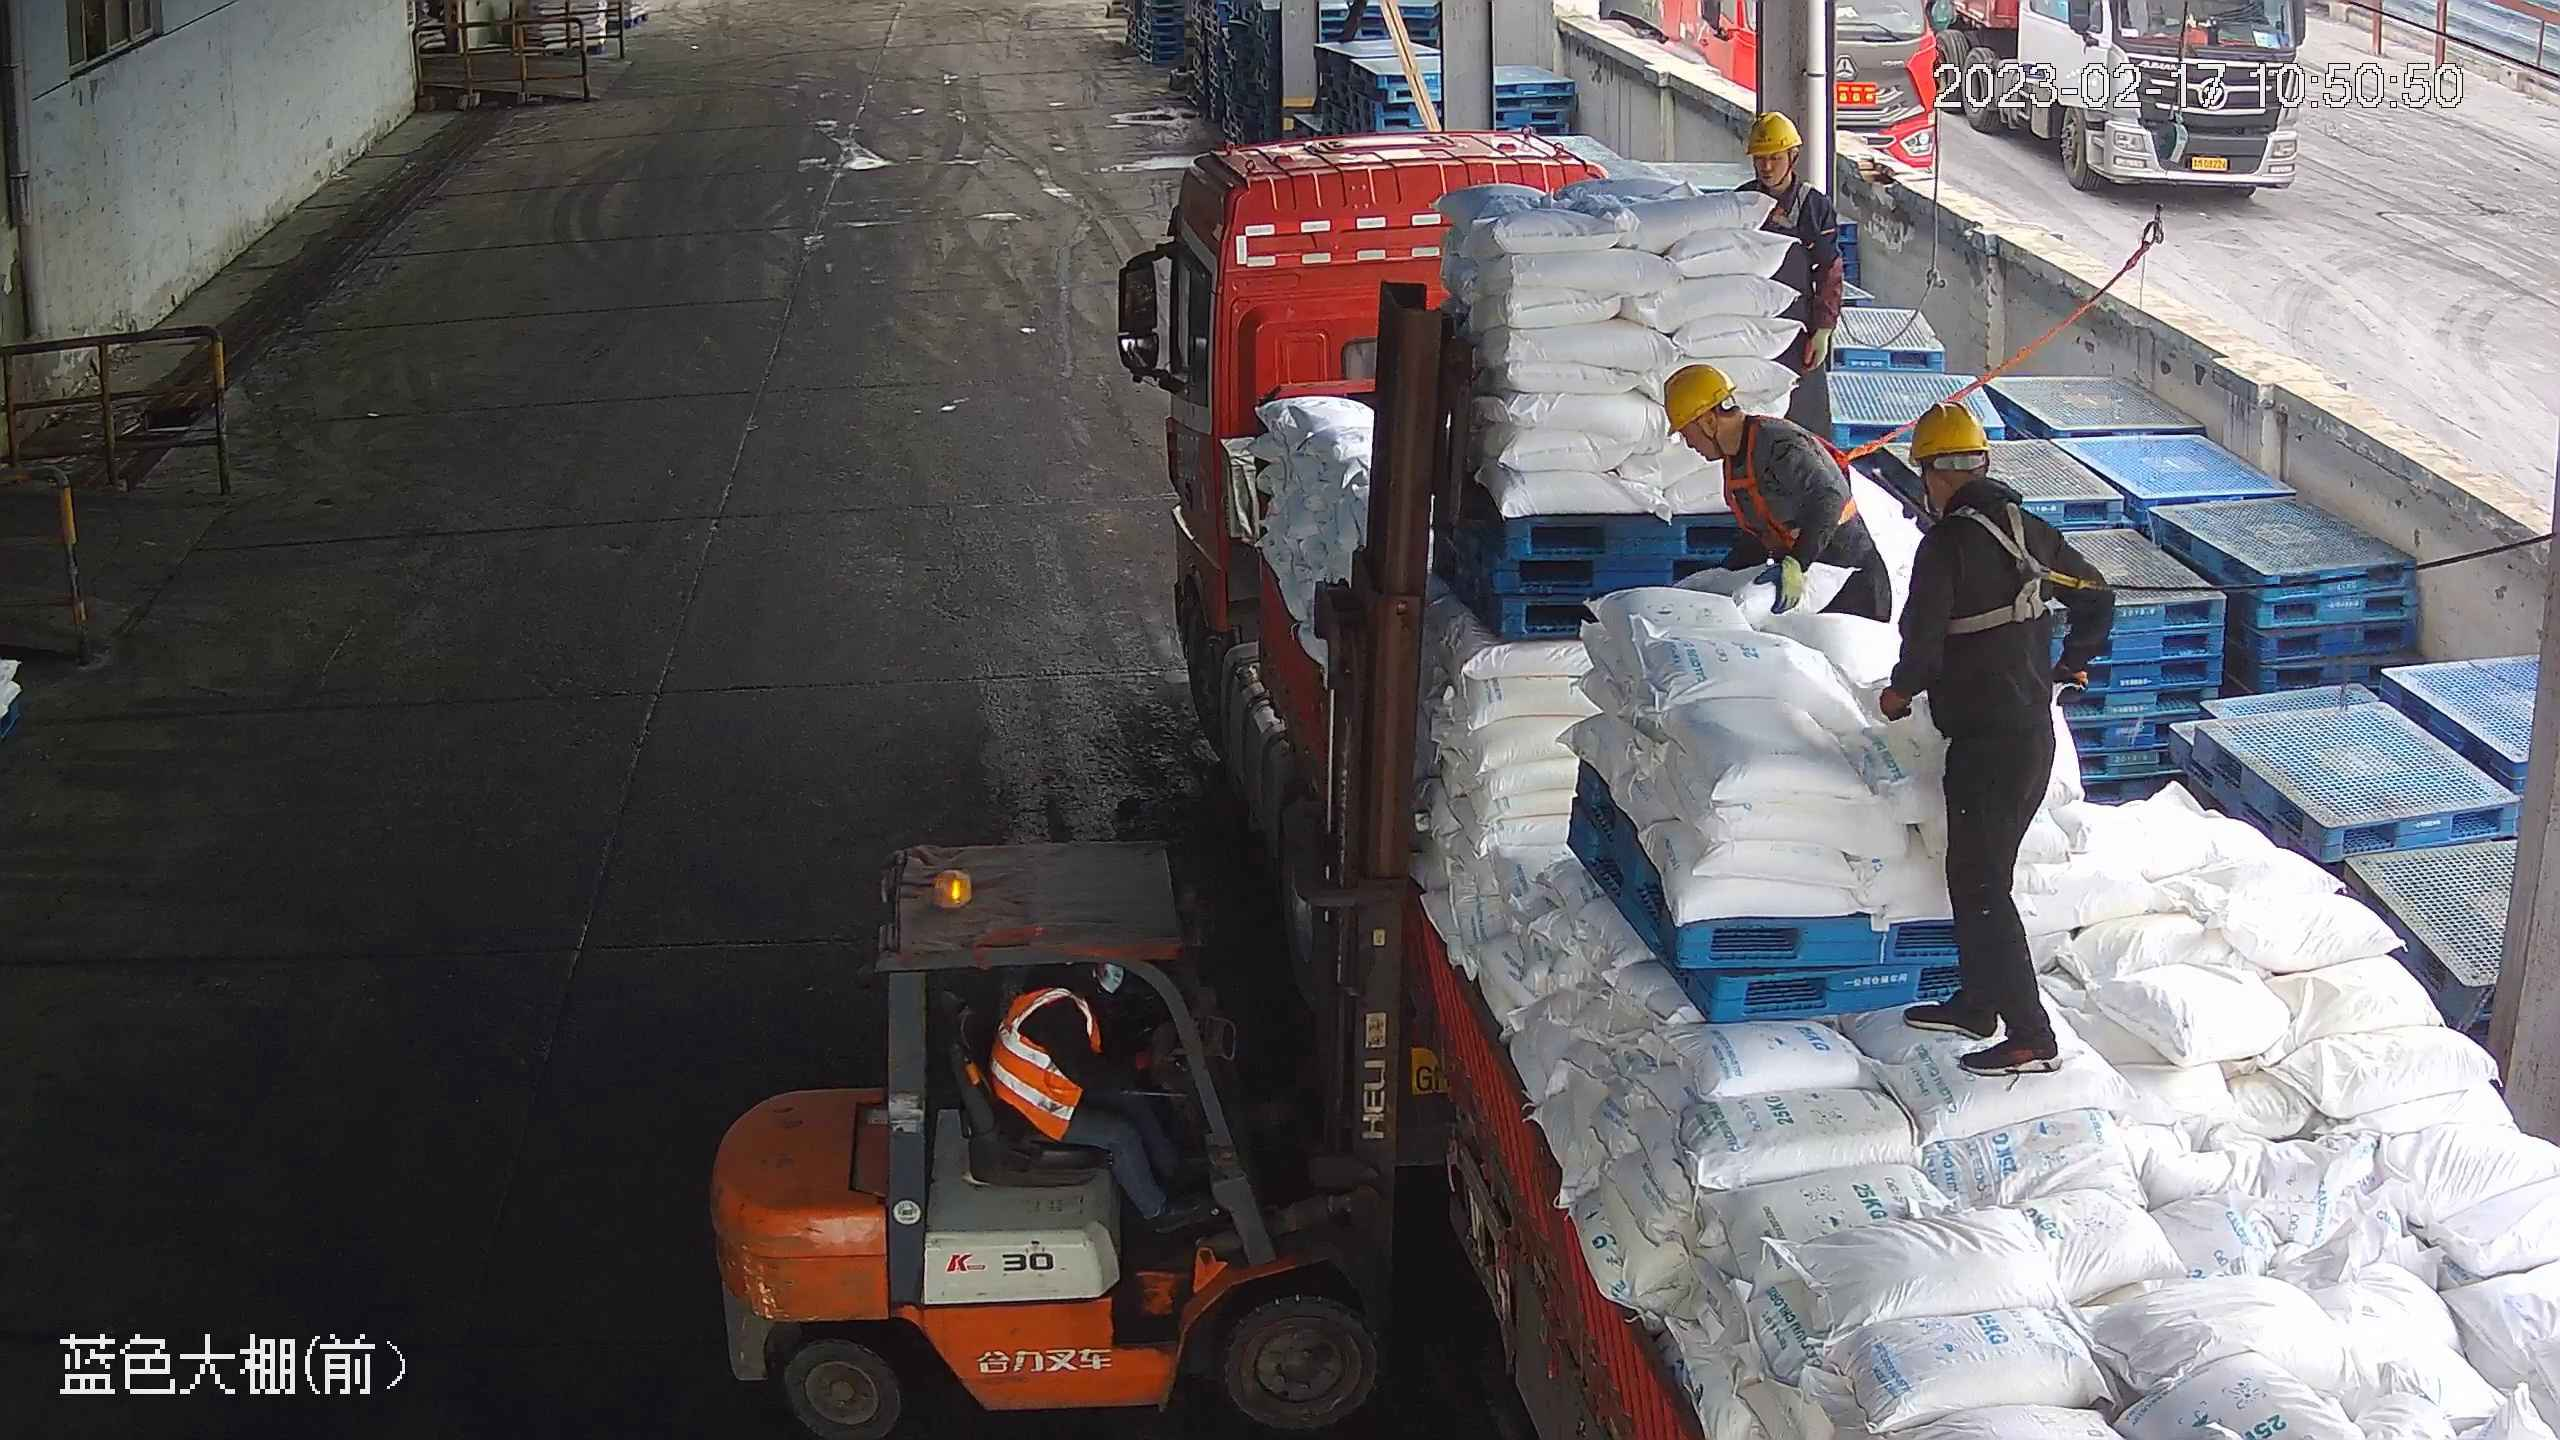belt: (1661, 360, 1892, 652), (1900, 403, 2068, 573), (1936, 497, 2087, 636), (1718, 413, 1868, 549), (1744, 111, 1840, 226), (1763, 176, 1844, 231)
head: (1898, 399, 2066, 568), (1660, 359, 1819, 488), (1742, 110, 1840, 223), (1659, 360, 1741, 440)
helmet: (1742, 110, 1840, 221), (1660, 360, 1740, 437), (1902, 401, 1993, 467), (1746, 110, 1803, 155)
people: (1877, 397, 2104, 1080), (1659, 358, 1898, 655), (986, 969, 1204, 1229), (1742, 113, 1844, 458), (1704, 408, 1875, 551)
truck: (1161, 148, 2559, 1433)
